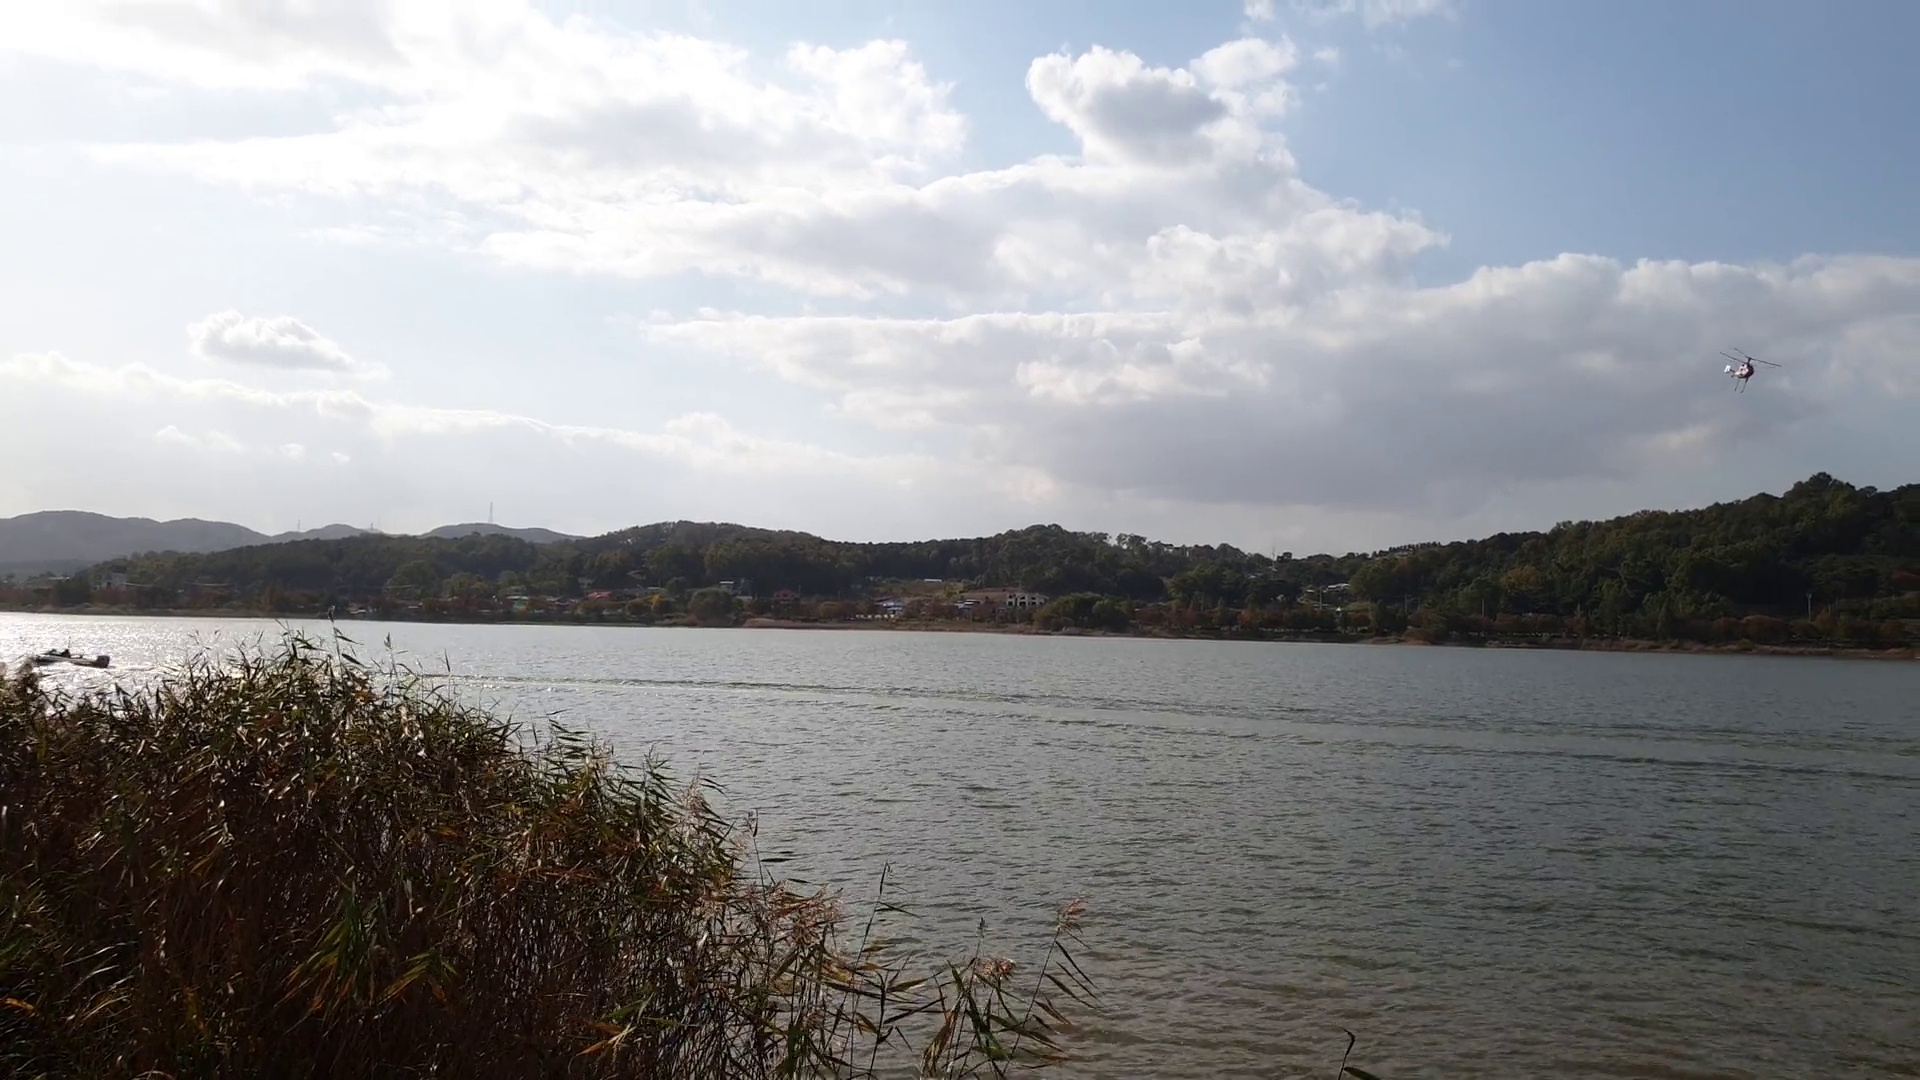heli: (1720, 347, 1782, 381)
